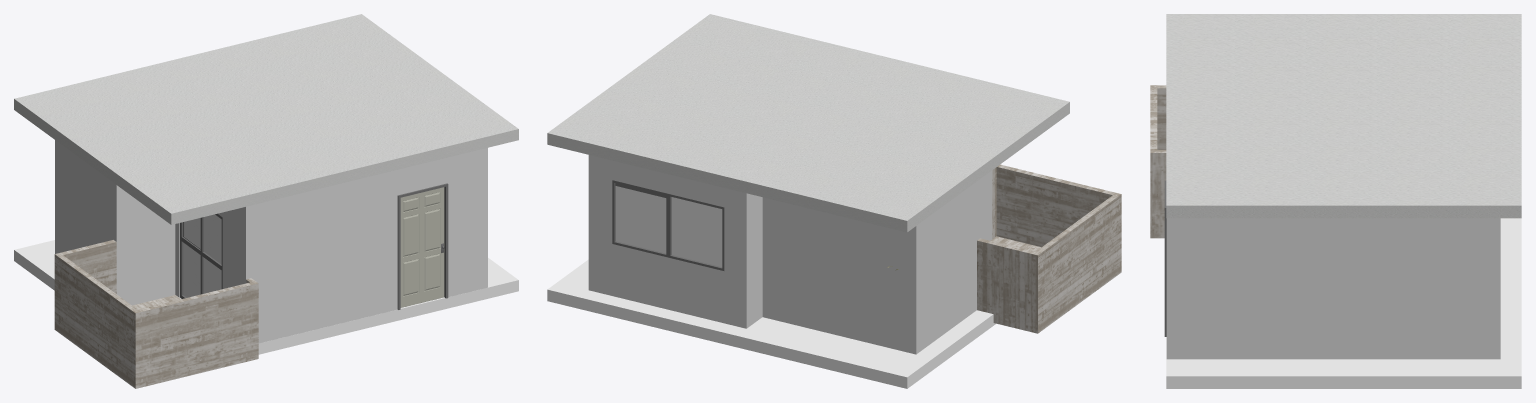
Rendered from FloorPlan221_physics.fbx.
3 renders of one model, left to right at view 1: azimuth 30°, elevation 25°; view 2: azimuth 150°, elevation 25°; view 3: azimuth 270°, elevation 25°, orthographic. The views are drawn at different scales.
Parts seen in each view (by area): view 1: FP221:Ceiling, FP221:StandardWallSize, FP221:Balcony, FP221:StandardDoor1, FP221:Floor, FP221:polySurface2, FP221:StandardDoorFrame1, FP221:polySurface1; view 2: FP221:Ceiling, FP221:StandardWallSize, FP221:Balcony, FP221:Floor, FP221:polySurface3, FP221:polySurface4; view 3: FP221:Ceiling, FP221:StandardWallSize, FP221:Floor, FP221:Balcony, FP221:StandardDoorFrame1.
Part boxes in pixels (x1,y1,x2,y2): FP221:Ceiling: [14, 14, 518, 224]; FP221:StandardWallSize: [55, 140, 487, 343]; FP221:Balcony: [54, 240, 258, 388]; FP221:StandardDoor1: [400, 187, 444, 307]; FP221:Floor: [14, 240, 518, 354]; FP221:polySurface2: [183, 214, 221, 297]; FP221:StandardDoorFrame1: [397, 183, 448, 309]; FP221:polySurface1: [180, 213, 222, 298]; FP221:Ceiling: [547, 14, 1069, 232]; FP221:StandardWallSize: [588, 155, 992, 354]; FP221:Balcony: [977, 164, 1121, 333]; FP221:Floor: [547, 259, 995, 388]; FP221:polySurface3: [615, 186, 722, 266]; FP221:polySurface4: [612, 180, 724, 270]; FP221:Ceiling: [1166, 14, 1521, 218]; FP221:StandardWallSize: [1166, 218, 1500, 359]; FP221:Floor: [1166, 218, 1521, 388]; FP221:Balcony: [1150, 85, 1166, 238]; FP221:StandardDoorFrame1: [1164, 180, 1166, 336].
Bounding box in the file's own units: 730 × 290 × 532.
